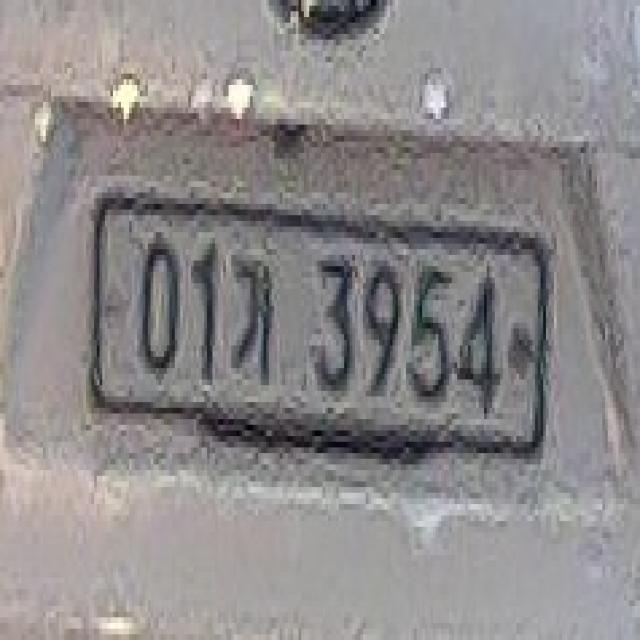0: (138, 228, 180, 386)
1: (190, 231, 224, 395)
3: (310, 244, 354, 403)
4: (454, 262, 506, 420)
5: (408, 255, 454, 410)
9: (361, 258, 406, 406)
ga: (228, 237, 282, 389)
license_plate: (77, 164, 561, 478)
